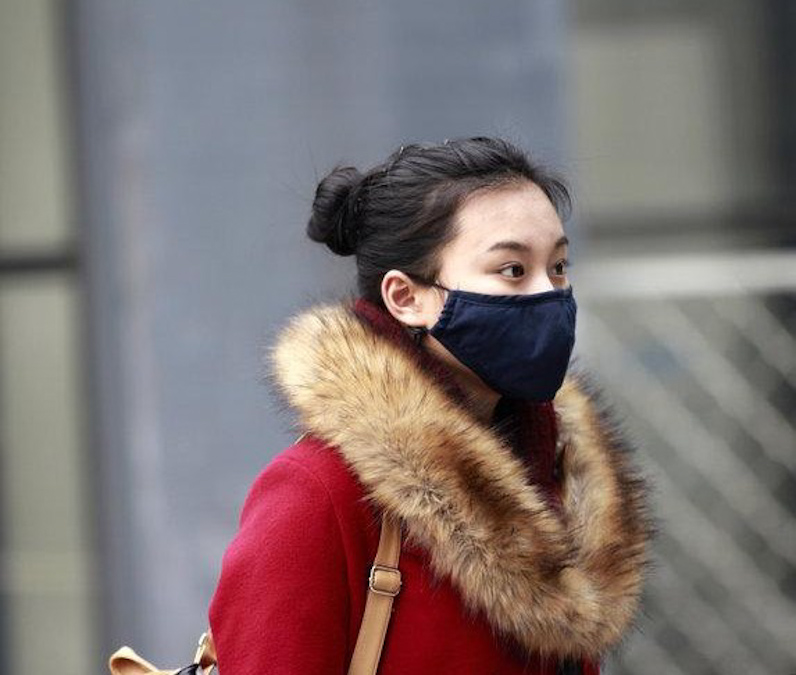face_mask: (435, 202, 577, 407)
